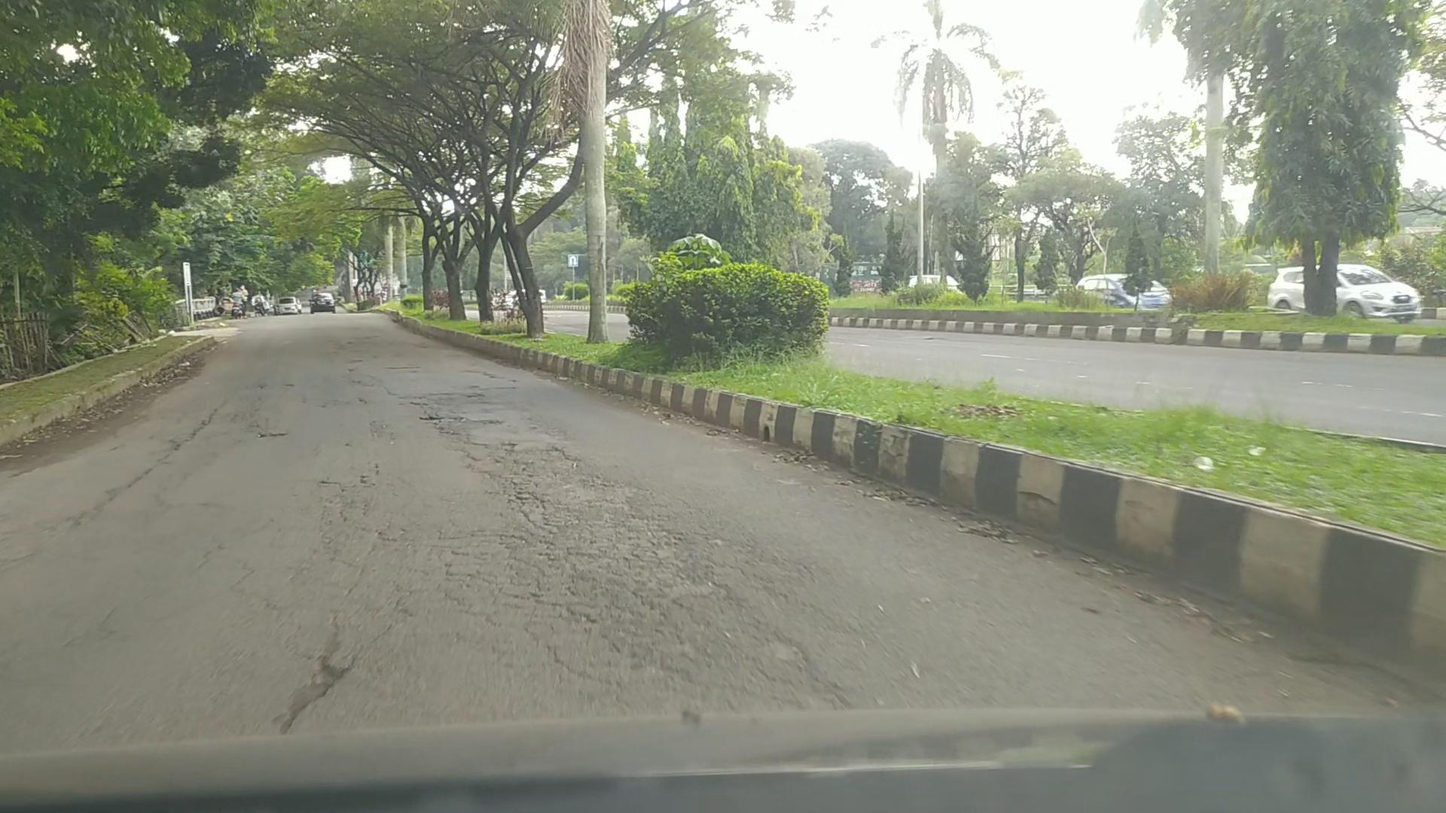pothole: (279, 613, 355, 738), (417, 415, 459, 422), (257, 432, 292, 438)
